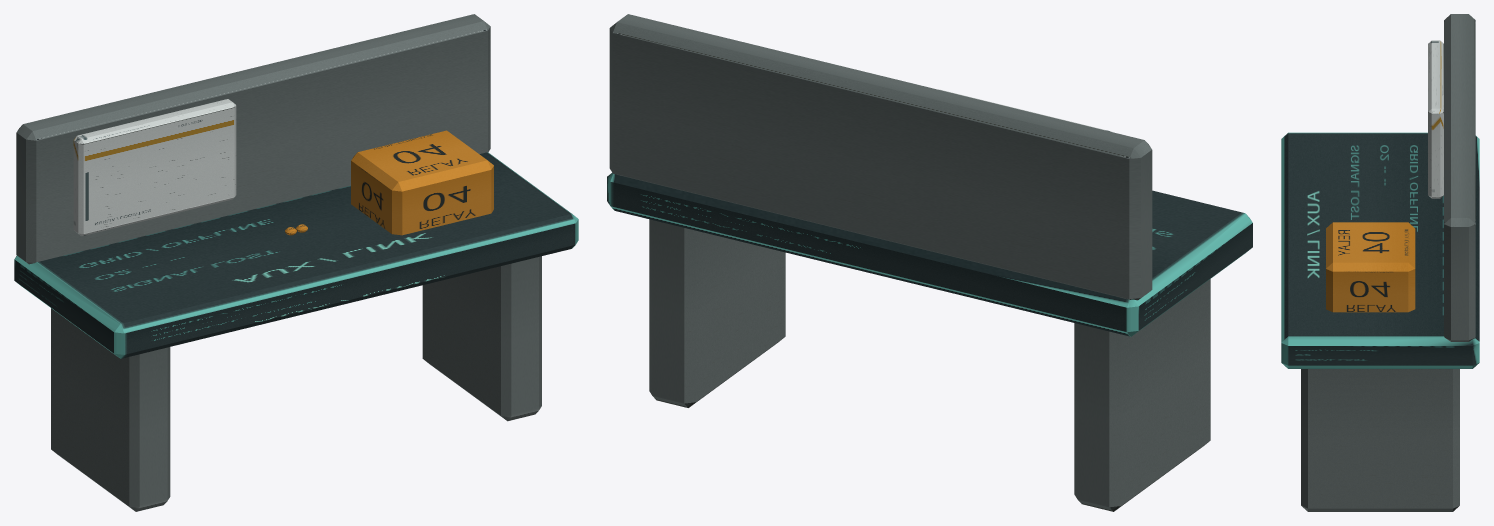
Rendered from workbench_LOD0.obj.
3 views of the same model, side by side, from view 1: azimuth 30°, elevation 25°; view 2: azimuth 150°, elevation 25°; view 3: azimuth 270°, elevation 25° (orthographic). The views are drawn at different scales.
Visible parts, largest first — view 1: L02_workbench_LOD0; view 2: L02_workbench_LOD0; view 3: L02_workbench_LOD0.
Boxes of the visible parts, left/top/right/bottom form: L02_workbench_LOD0: left=14, top=14, right=578, bottom=511; L02_workbench_LOD0: left=607, top=14, right=1252, bottom=511; L02_workbench_LOD0: left=1281, top=14, right=1479, bottom=511.
Bounding box in the file's own units: 2.5 × 1.7 × 1.
1 material, 1 textured.
